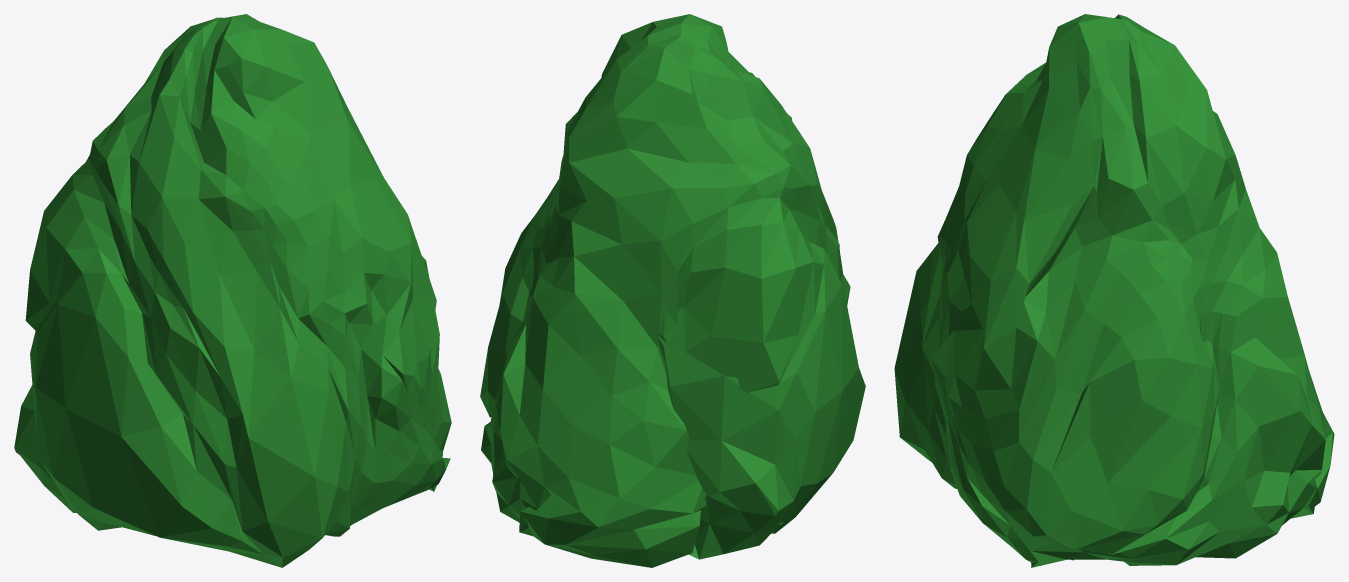
File: bush.02.gltf
3 renders of one model, left to right at view 1: azimuth 30°, elevation 25°; view 2: azimuth 150°, elevation 25°; view 3: azimuth 270°, elevation 25°, orthographic. The views are drawn at different scales.
Visible parts, largest first — view 1: bush2; view 2: bush2; view 3: bush2.
Boxes of the visible parts, <box> form: bush2: <box>14,14,451,567</box>; bush2: <box>480,14,865,567</box>; bush2: <box>894,14,1334,567</box>.
Size of the model in its own units: 1.17 by 1.58 by 1.29.
